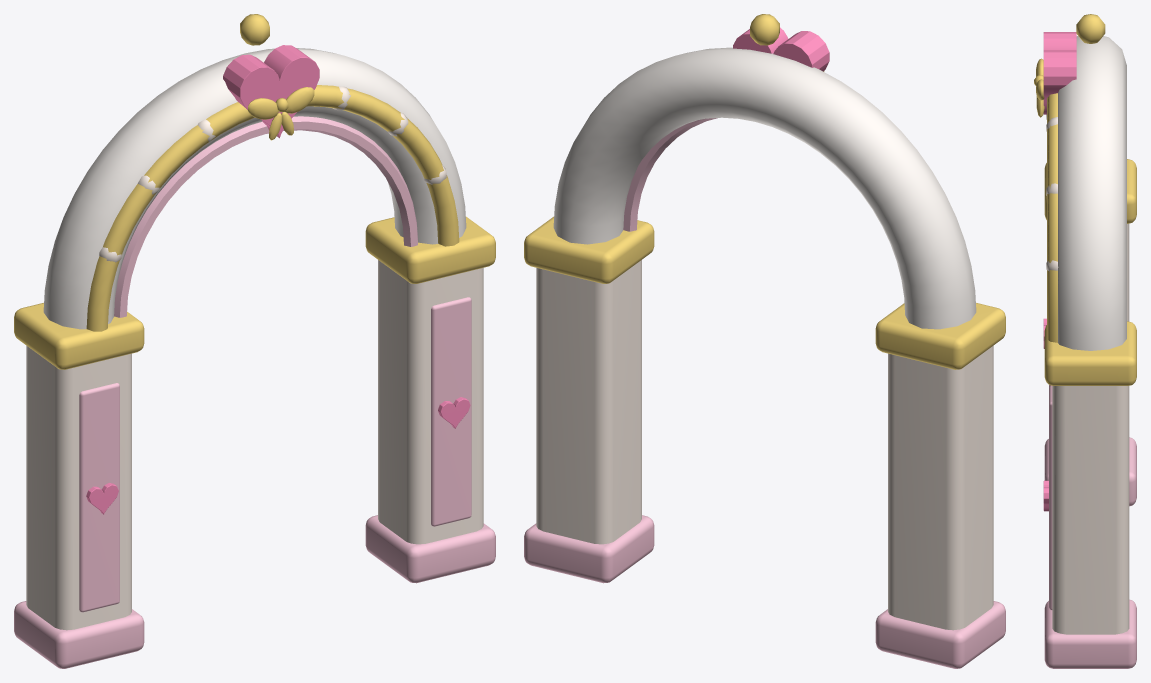
The model's file is arch_gate.glb.
The picture shows the model from 3 angles, left to right: view 1: azimuth 30°, elevation 25°; view 2: azimuth 150°, elevation 25°; view 3: azimuth 270°, elevation 25°; orthographic projection. The views are drawn at different scales.
Parts seen in each view (by area): view 1: arch_gate; view 2: arch_gate; view 3: arch_gate.
Boxes of the visible parts, x1,y1,x2,y2 form: arch_gate: (14, 14, 495, 668); arch_gate: (524, 14, 1005, 668); arch_gate: (1034, 14, 1136, 668).
Bounding box in the file's own units: 4.38 × 5.59 × 0.9371.
